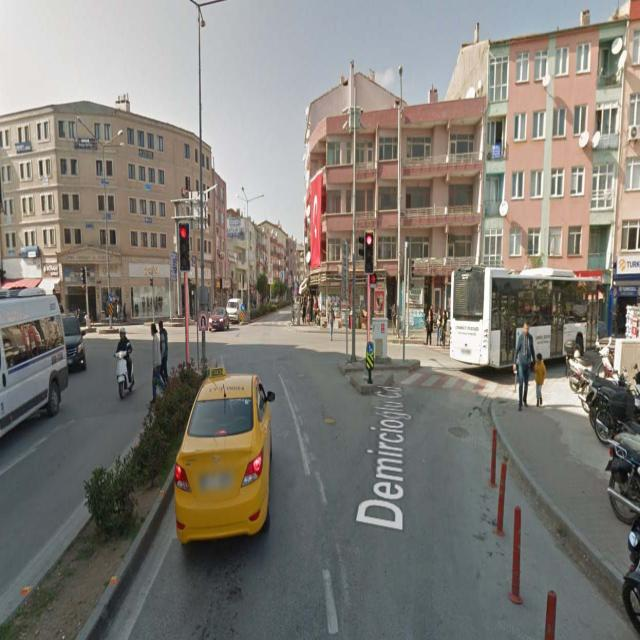ilerisag: (367, 342, 373, 354)
kirmizi: (180, 223, 190, 269), (366, 231, 373, 272)
